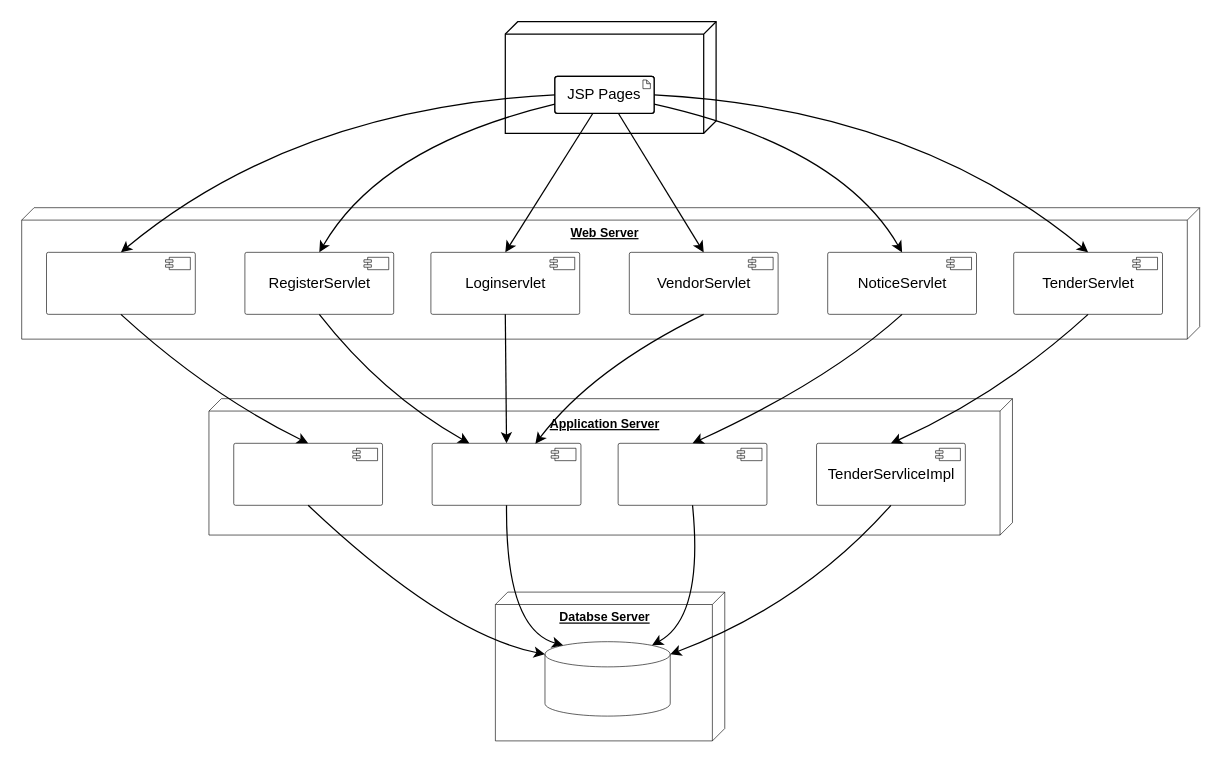
Image size: 1221x763. Some labels were removed from this diagram. Here are the shapes that lost their labels. From the top down, the box of each, then its label:
(504, 20, 716, 133): Client Browser
(46, 251, 195, 314): BidsServlet
(233, 442, 382, 505): BidsServiceImpl
(431, 442, 581, 505): VendorServiceImpl
(617, 442, 767, 505): NoticeServiceImpl
(544, 641, 670, 716): Database
